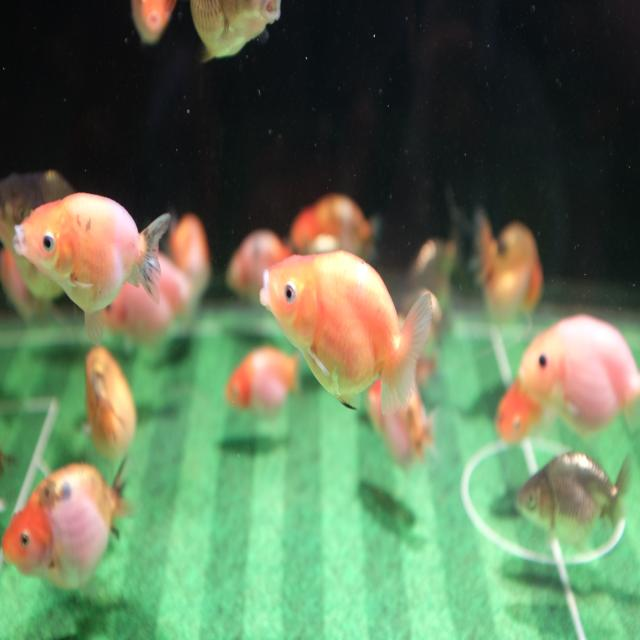Tilapia: (259, 249, 435, 414), (12, 190, 171, 346), (495, 312, 640, 445), (1, 454, 133, 592), (515, 450, 631, 548), (476, 210, 544, 323), (291, 192, 380, 269), (84, 345, 136, 459), (190, 0, 281, 64), (221, 225, 290, 302), (225, 345, 298, 414), (130, 0, 177, 45)
